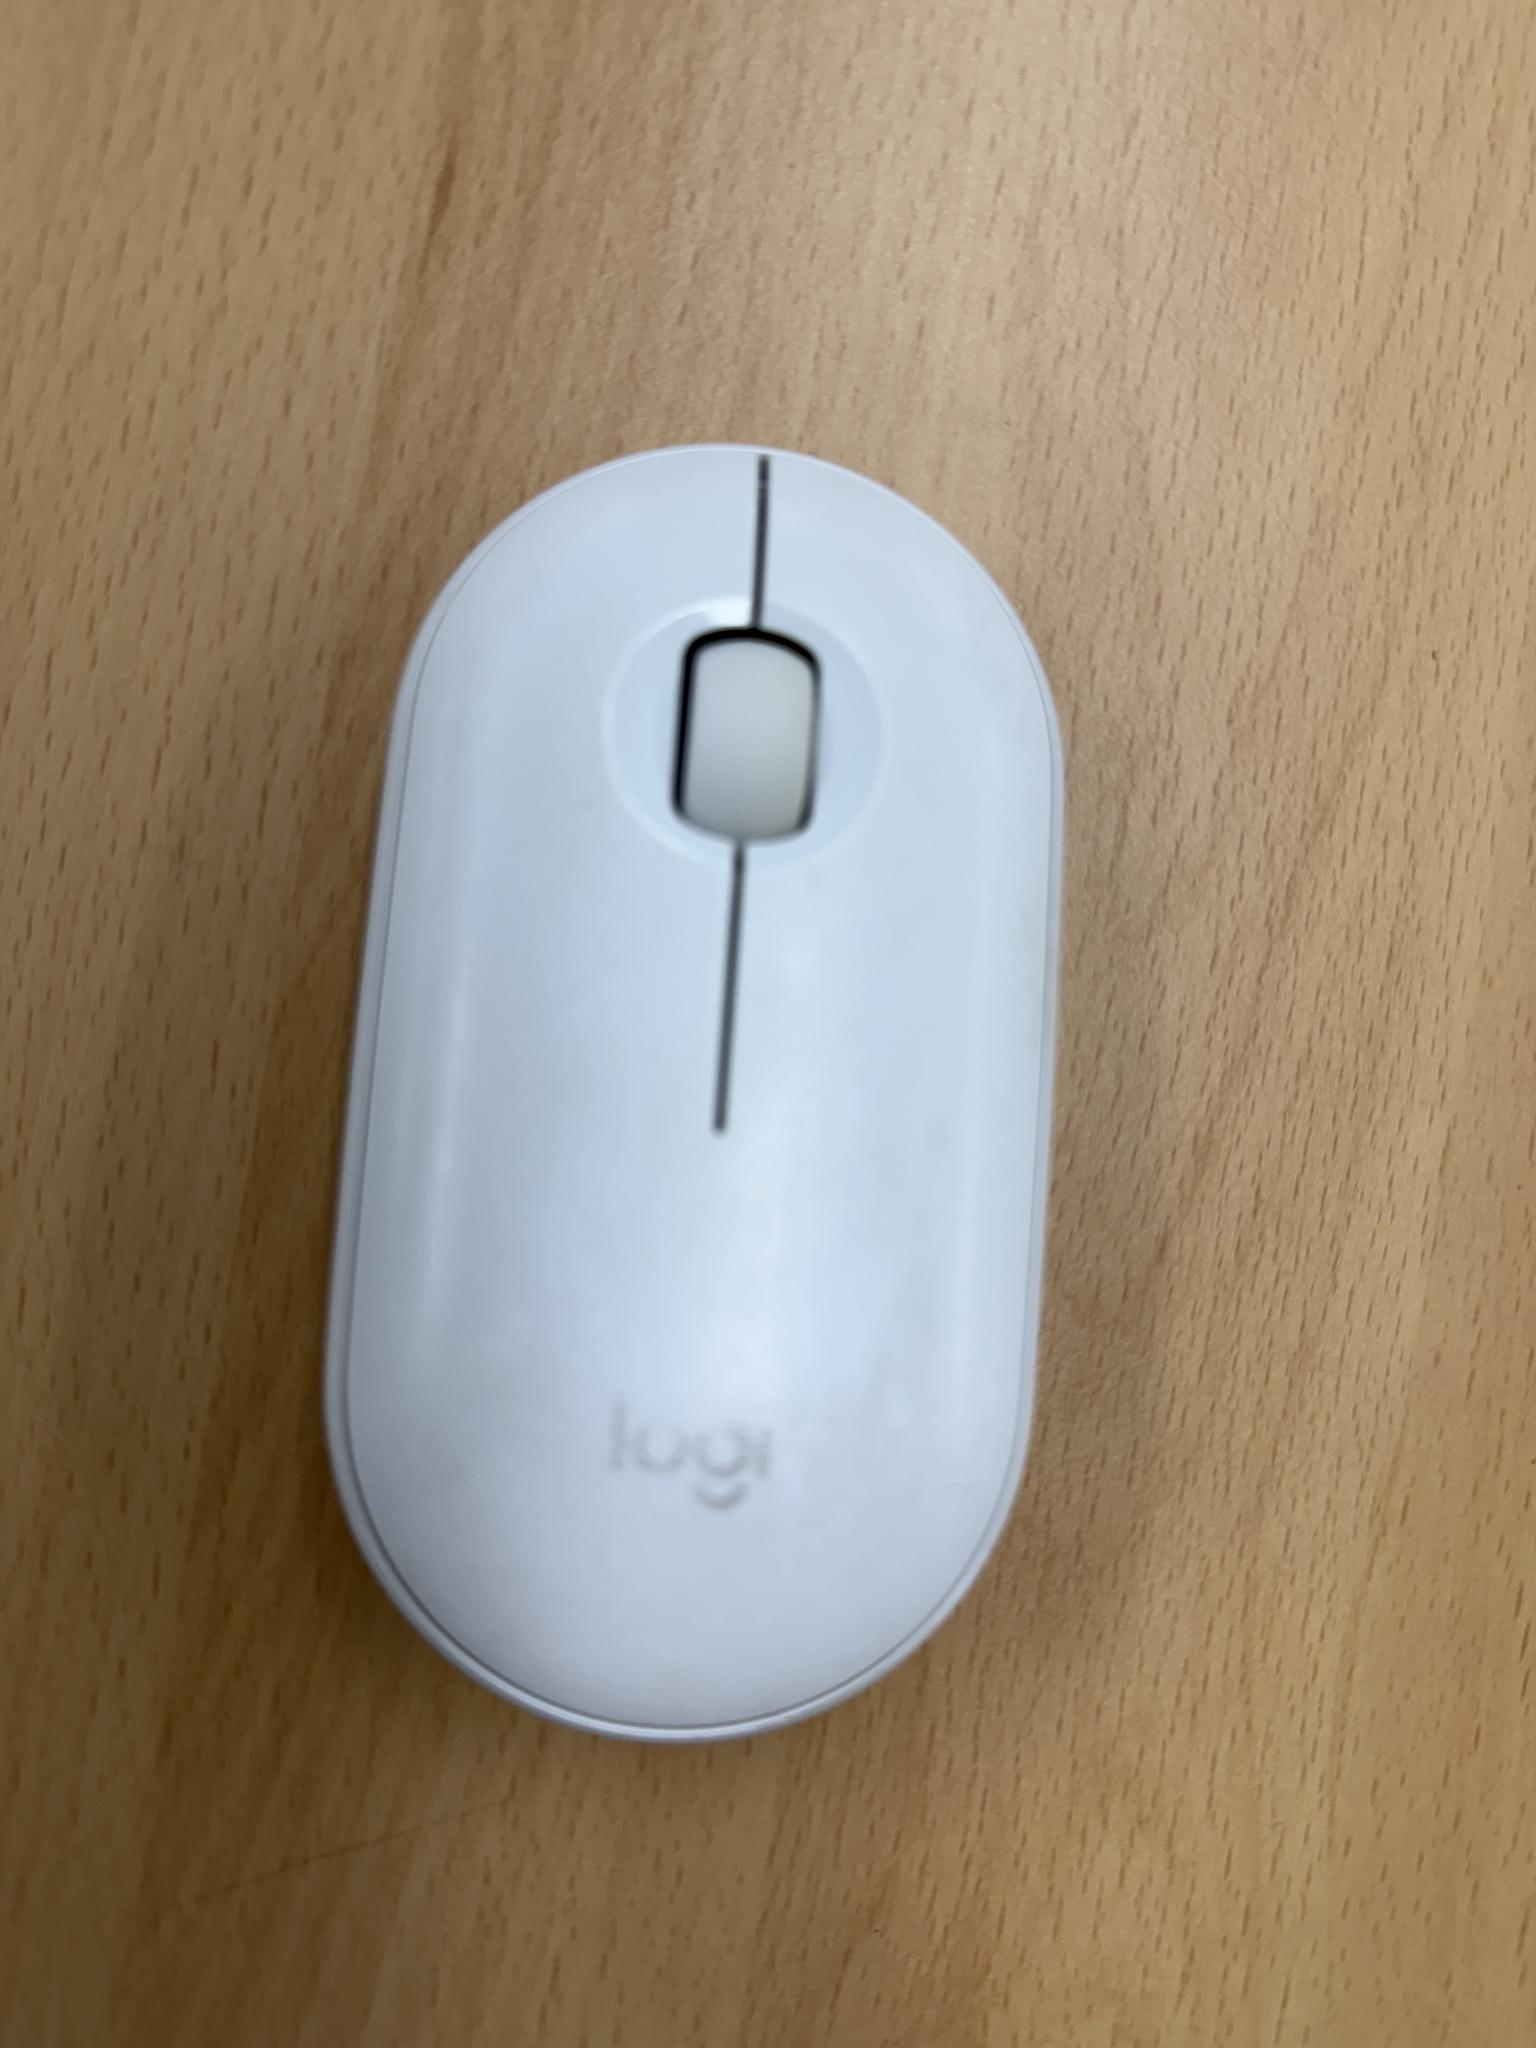front: (323, 442, 1066, 1748)
